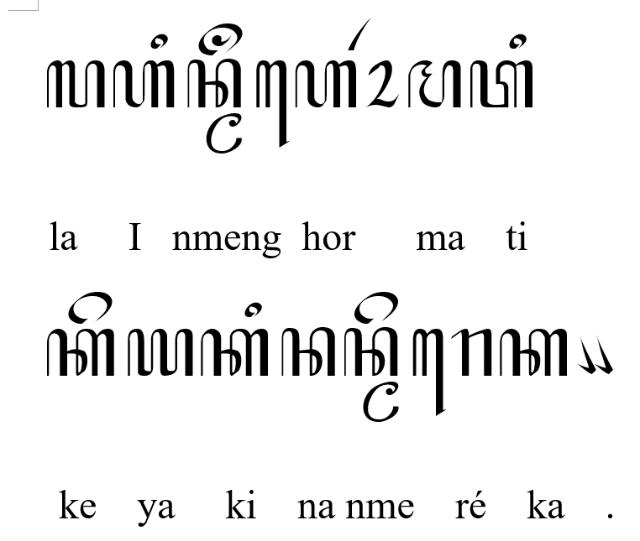_m: (205, 113, 243, 155), (362, 381, 400, 423)
_r1: (347, 17, 373, 52)
e: (352, 291, 400, 325), (68, 291, 112, 325)
e1: (254, 59, 290, 149), (412, 328, 446, 417)
eng: (198, 22, 244, 56)
h: (112, 59, 176, 111), (292, 59, 358, 109)
i: (242, 302, 264, 318), (150, 32, 168, 50), (509, 33, 526, 51)
k: (200, 326, 270, 378), (499, 328, 568, 379), (46, 328, 114, 378)
kom: (594, 334, 614, 376), (577, 335, 597, 375)
l: (46, 59, 106, 109)
m: (406, 59, 462, 109)
n: (342, 326, 400, 378), (280, 328, 336, 379), (186, 60, 242, 108)
o: (366, 59, 400, 109)
r: (451, 328, 493, 378)
t: (470, 58, 534, 110)
y: (126, 328, 194, 378)
